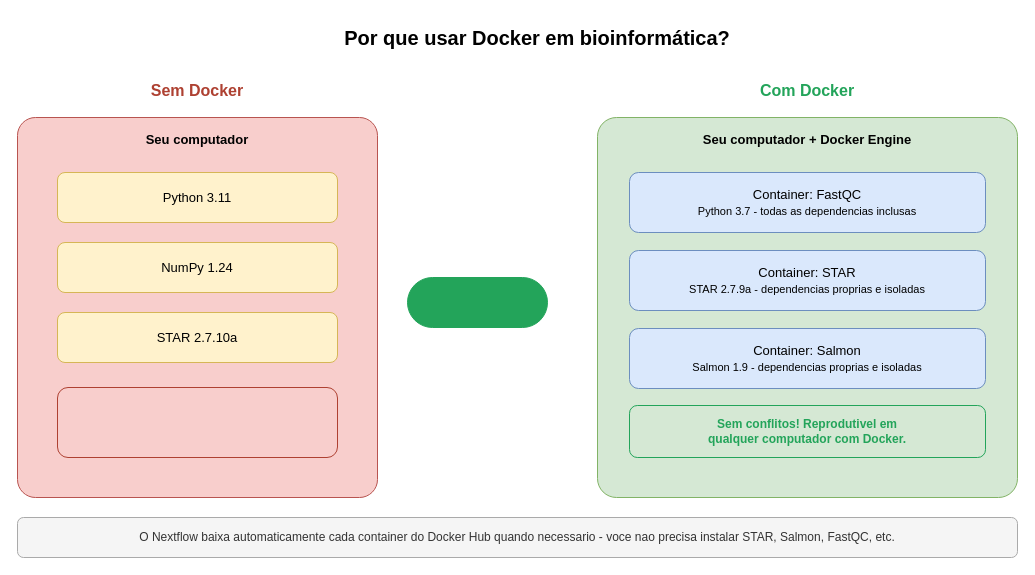
The diagram is 1035 pixels wide and 575 high, and some of its shapes have lost their labels. The box of each missing label's shape, as (x1, y1, x2, y2) in pixels:
Conflitos de versão! Difícil reproduzir em outro computador.: (56, 386, 338, 458)
Solução →: (406, 276, 548, 328)
